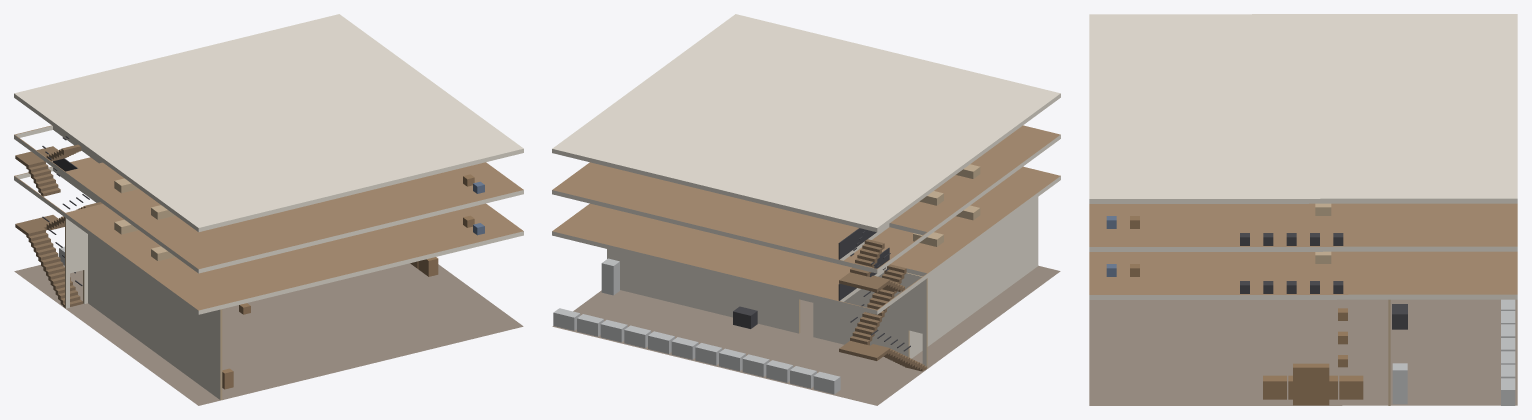
The model's file is interior.glb.
3 views of the same model, side by side, from view 1: azimuth 30°, elevation 25°; view 2: azimuth 150°, elevation 25°; view 3: azimuth 270°, elevation 25° (orthographic). The views are drawn at different scales.
Visible parts, largest first — view 1: slabs, partitions, stair, coarse-s0, coarse-s1, coarse-s2; view 2: slabs, partitions, coarse-s0, stair, coarse-s1, coarse-s2; view 3: slabs, coarse-s0, coarse-s2, coarse-s1.
Boxes of the visible parts, x1=… form: slabs: x1=14, y1=14, x2=523, y2=405; partitions: x1=65, y1=217, x2=222, y2=399; stair: x1=15, y1=136, x2=102, y2=307; coarse-s0: x1=59, y1=246, x2=438, y2=389; coarse-s1: x1=114, y1=215, x2=484, y2=260; coarse-s2: x1=114, y1=174, x2=484, y2=219; slabs: x1=552, y1=14, x2=1060, y2=405; partitions: x1=607, y1=197, x2=1038, y2=368; coarse-s0: x1=553, y1=258, x2=840, y2=394; stair: x1=838, y1=228, x2=926, y2=371; coarse-s1: x1=913, y1=205, x2=980, y2=246; coarse-s2: x1=919, y1=164, x2=980, y2=205; slabs: x1=1089, y1=14, x2=1517, y2=405; coarse-s0: x1=1263, y1=299, x2=1515, y2=405; coarse-s2: x1=1106, y1=203, x2=1343, y2=245; coarse-s1: x1=1106, y1=251, x2=1343, y2=293.
Bounding box in the file's own units: 20.66 × 10.8 × 20.22.
